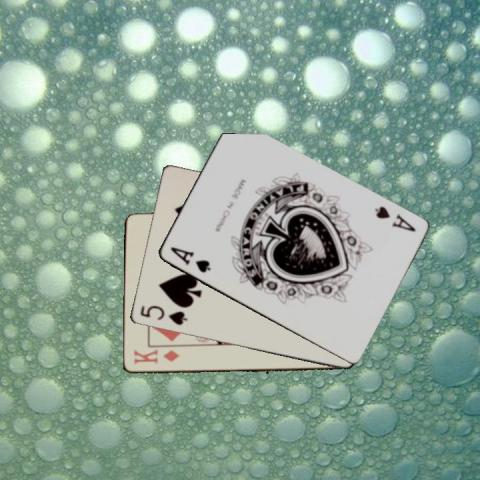5s: (137, 302, 188, 326)
As: (166, 244, 212, 275), (370, 204, 417, 234)
Kd: (131, 347, 180, 366)
